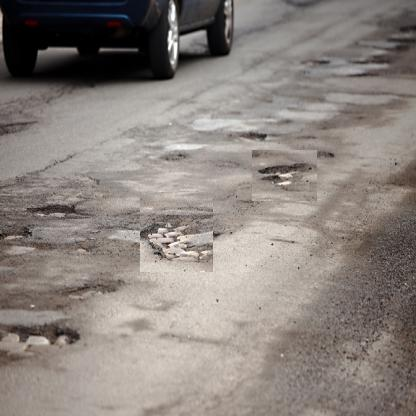damage: (140, 192, 214, 273), (18, 190, 98, 236), (252, 150, 318, 202)
